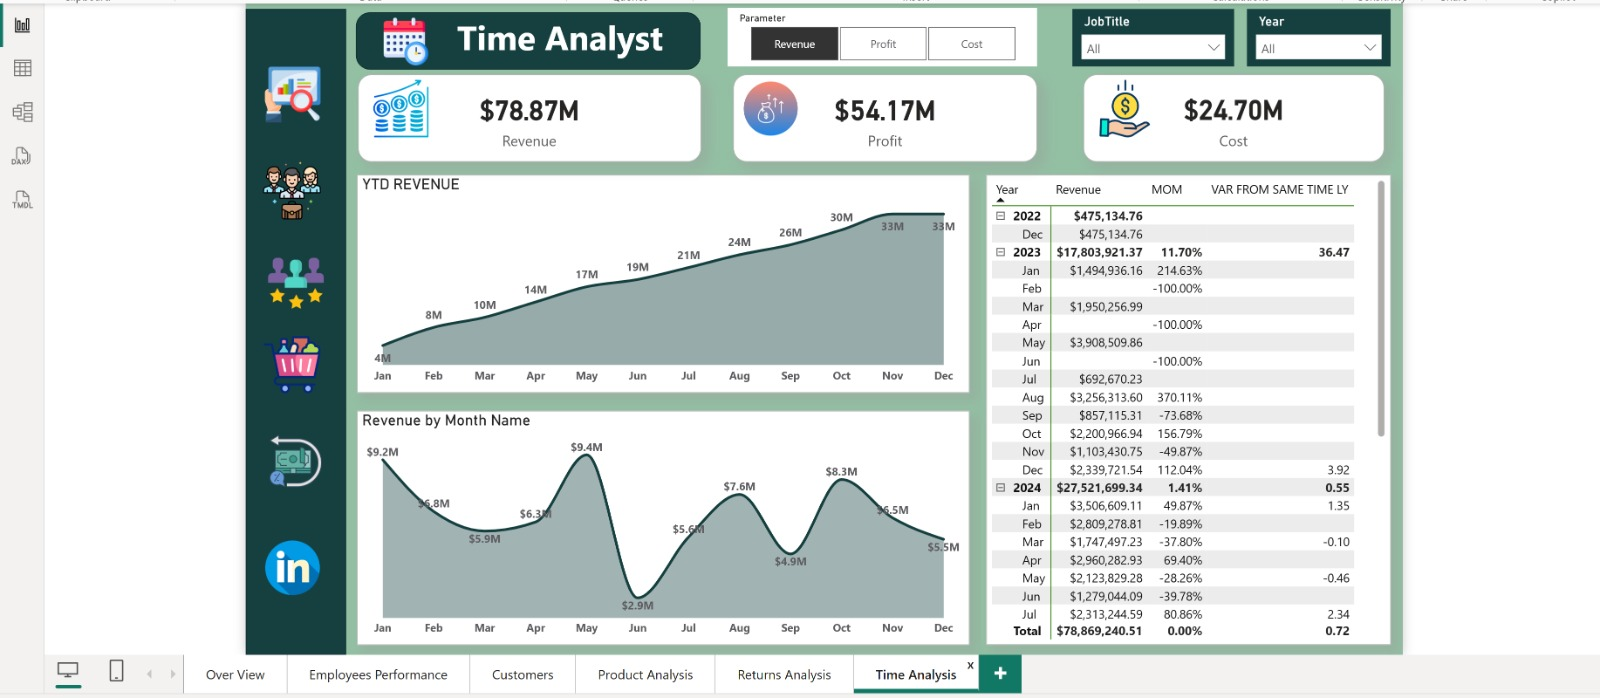

The dashboard page shown, as its layout file describes it:
{"tool":"powerbi","page":{"name":"Time Analysis","canvas":[1280,720],"ordinal":5},"visuals":[{"type":"shape","box":[0,5.8,111.1,714.2],"z":0},{"type":"slicer","fields":{"Values":["Date TAble.Year"]},"box":[1108,5.8,158.7,63.5],"z":1000},{"type":"slicer","fields":{"Values":["Employees.JobTitle"]},"box":[914.7,5.8,178.9,63.5],"z":2000},{"type":"shape","box":[122.4,9.6,381.5,63.6],"z":3000},{"type":"slicer","fields":{"Values":["Time Analysis.Time Analysis"]},"box":[533.8,4.3,341.9,64.9],"z":4000},{"type":"areaChart","fields":{"Category":["Date TAble.Month Name"],"Y":["Calculation.YTD"]},"box":[123.5,189.5,677.4,240.9],"z":5000},{"type":"areaChart","fields":{"Y":["Calculation.Revenue"],"Category":["Date TAble.Month Name"]},"box":[123.5,450,677.4,259.2],"z":6000},{"type":"pivotTable","fields":{"Values":["Calculation.Revenue","Calculation.MOM","Calculation.VAR FROM SAME TIME LY"],"Rows":["Date TAble.Year","Date TAble.Month Name"]},"box":[819.3,189.5,447.6,519.7],"z":7000},{"type":"card","fields":{"Values":["Calculation.Profit"]},"box":[539.6,77.9,336.2,96.7],"z":8000},{"type":"card","fields":{"Values":["Calculation.Revenue"]},"box":[124.1,77.9,379.4,96.7],"z":9000},{"type":"card","fields":{"Values":["Calculation.Cost"]},"box":[926.9,78.3,332.6,96.6],"z":10000},{"type":"image","box":[550.3,84.4,61.1,63.6],"z":11000},{"type":"image","box":[940.4,84.4,64.8,63.6],"z":12000},{"type":"image","box":[139.4,84.4,63.6,63.6],"z":13000},{"type":"image","box":[76.7,15.4,200.1,52.7],"z":14000},{"type":"image","box":[1.2,70,101.3,61.5],"z":15000},{"type":"image","box":[4.8,278.7,101.3,61.5],"z":16000},{"type":"image","box":[4.8,474.1,101.3,62.7],"z":17000},{"type":"image","box":[0,368,102.5,62.7],"z":18000},{"type":"image","box":[0,174.9,102.5,63.9],"z":19000},{"type":"textbox","box":[161.6,5.8,372.2,88],"z":20000},{"type":"image","box":[10.9,593.6,82,60.3],"z":21000}]}

Visuals, with their boxes on the page's 1280x720 design canvas (x1, y1, x2, y2). These are canvas units, not pixel positions in the 1600x698 screenshot, which may show the page scaled, cropped or inside an application window:
shape: rect(0, 6, 111, 720)
slicer - Date TAble.Year: rect(1108, 6, 1267, 69)
slicer - Employees.JobTitle: rect(915, 6, 1094, 69)
shape: rect(122, 10, 504, 73)
slicer - Time Analysis.Time Analysis: rect(534, 4, 876, 69)
areaChart - Date TAble.Month Name x Calculation.YTD: rect(124, 190, 801, 430)
areaChart - Calculation.Revenue x Date TAble.Month Name: rect(124, 450, 801, 709)
pivotTable - Calculation.Revenue x Calculation.MOM: rect(819, 190, 1267, 709)
card - Calculation.Profit: rect(540, 78, 876, 175)
card - Calculation.Revenue: rect(124, 78, 504, 175)
card - Calculation.Cost: rect(927, 78, 1260, 175)
image: rect(550, 84, 611, 148)
image: rect(940, 84, 1005, 148)
image: rect(139, 84, 203, 148)
image: rect(77, 15, 277, 68)
image: rect(1, 70, 102, 132)
image: rect(5, 279, 106, 340)
image: rect(5, 474, 106, 537)
image: rect(0, 368, 102, 431)
image: rect(0, 175, 102, 239)
textbox: rect(162, 6, 534, 94)
image: rect(11, 594, 93, 654)
